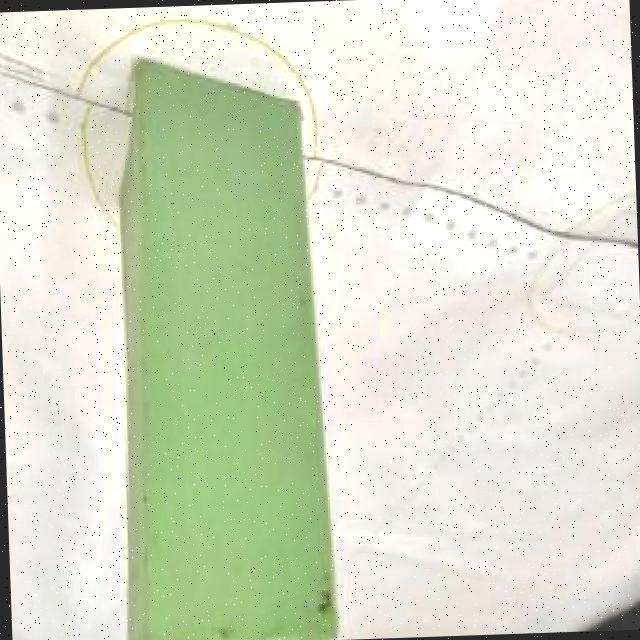greenbox: (104, 51, 335, 640)
